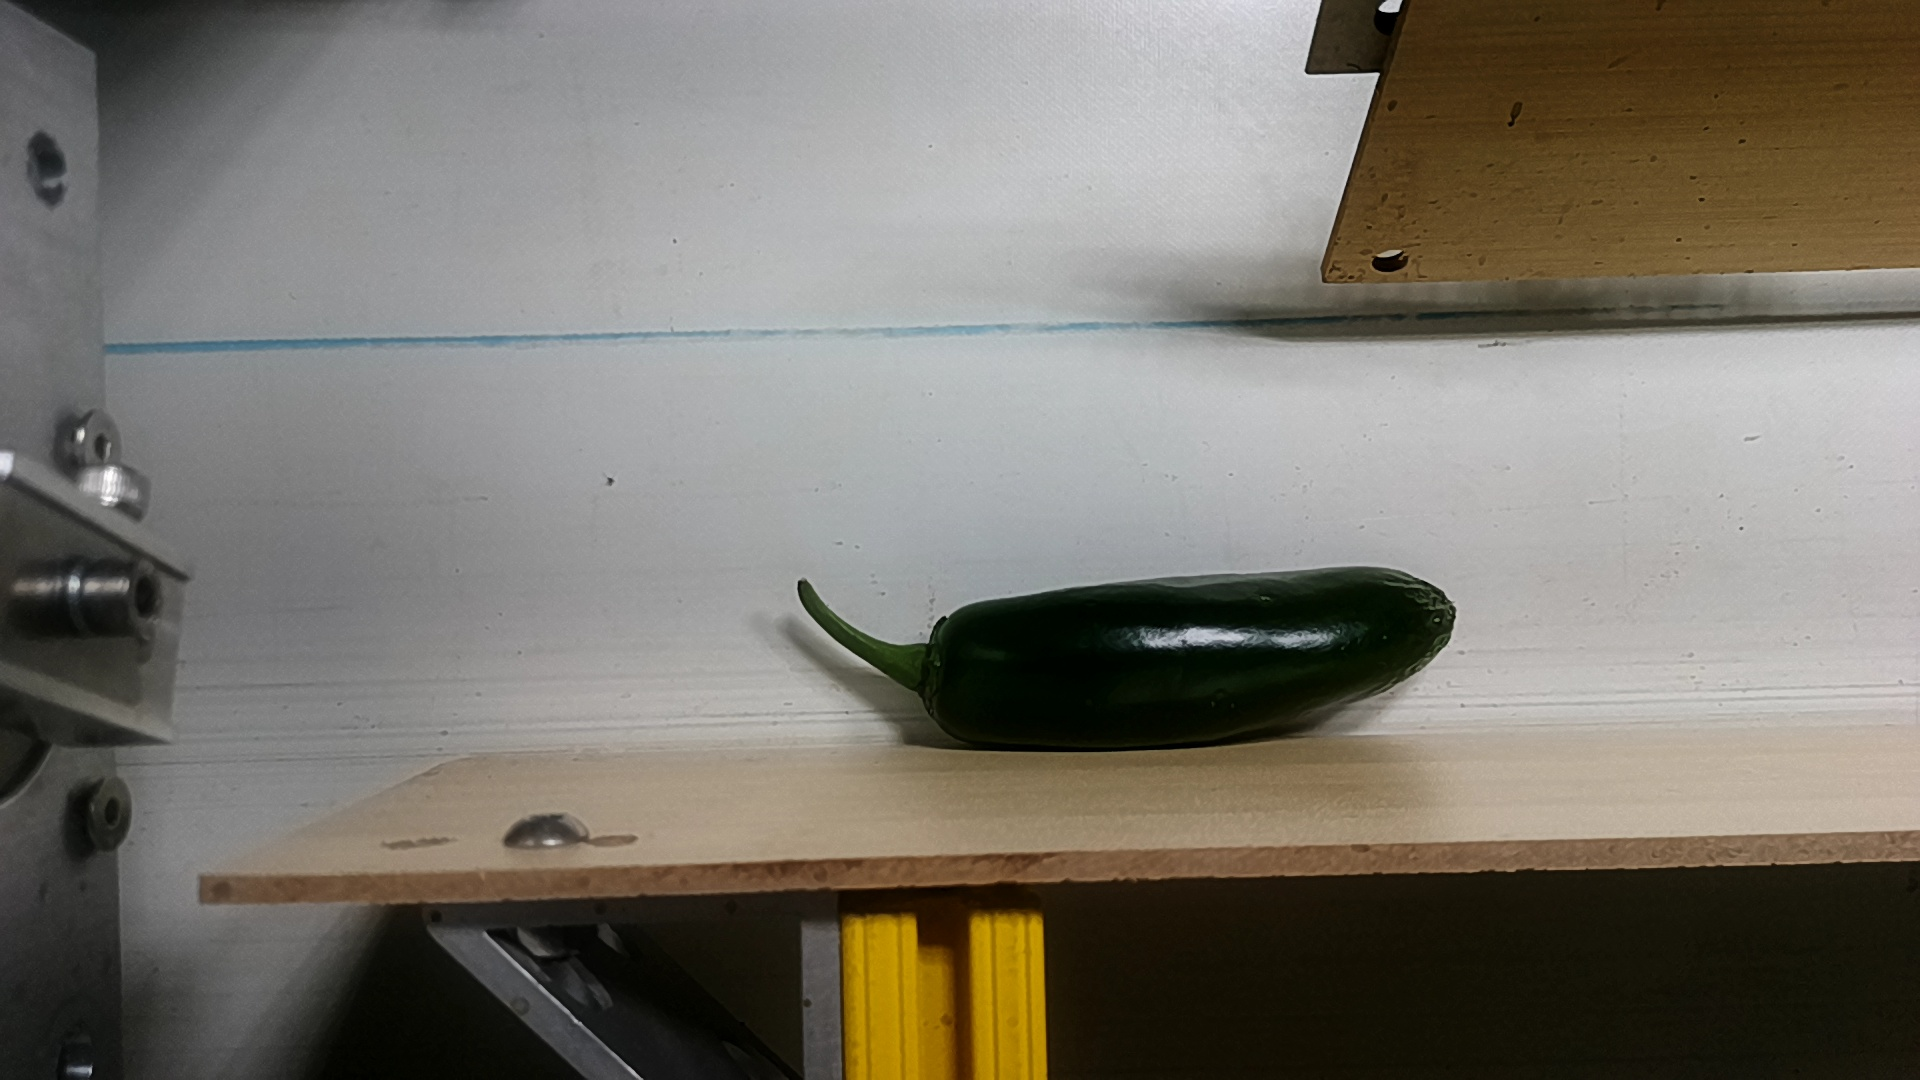Cut Point: (899, 596, 1004, 753)
